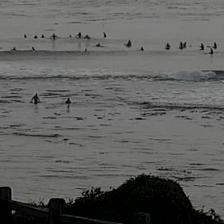surfer: (31, 94, 40, 104), (50, 33, 59, 39), (165, 43, 171, 50), (126, 40, 132, 47), (66, 98, 72, 104), (76, 32, 82, 38), (84, 34, 90, 39), (213, 42, 217, 49), (200, 43, 204, 50), (183, 41, 187, 48), (178, 41, 182, 48), (140, 46, 145, 51), (210, 48, 214, 54), (96, 43, 102, 47), (11, 47, 17, 51), (41, 34, 45, 38), (103, 32, 106, 37), (34, 35, 38, 38), (32, 46, 35, 50), (24, 34, 26, 38)
